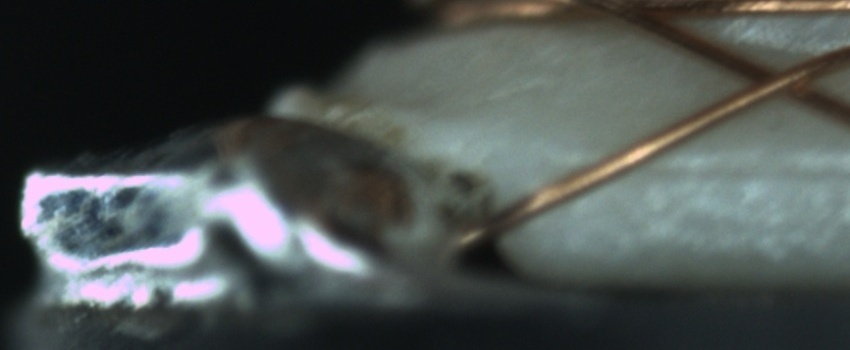CL: (718, 47, 838, 108)
DL: (577, 136, 841, 203)
